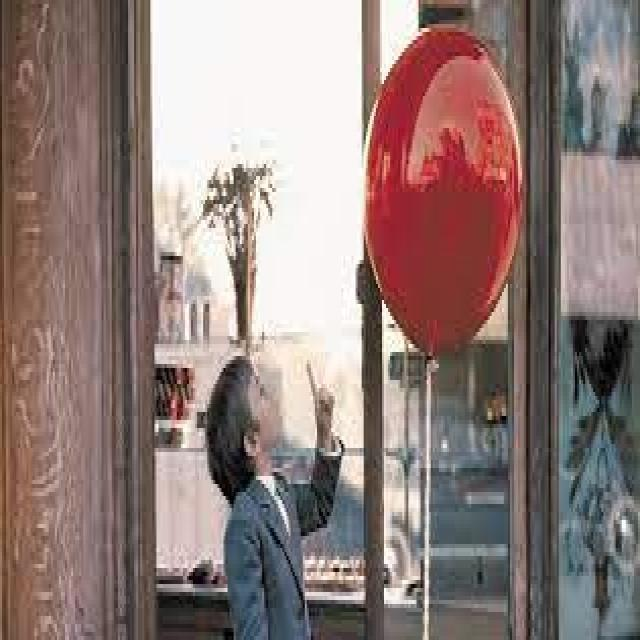balloon: (365, 30, 523, 345)
